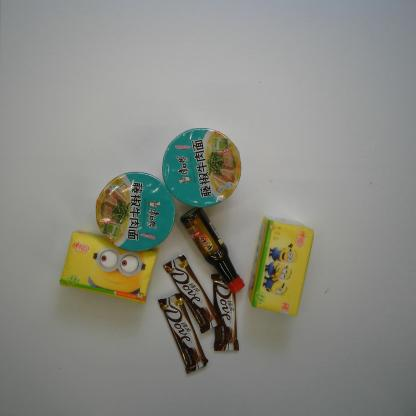Chocolate: (162, 254, 223, 334), (158, 293, 209, 375), (210, 273, 239, 352)
Instant Noodles: (161, 127, 242, 209), (95, 171, 176, 252)
Seasoner: (180, 206, 246, 294)
Tissue: (58, 230, 160, 304), (246, 214, 314, 317)
